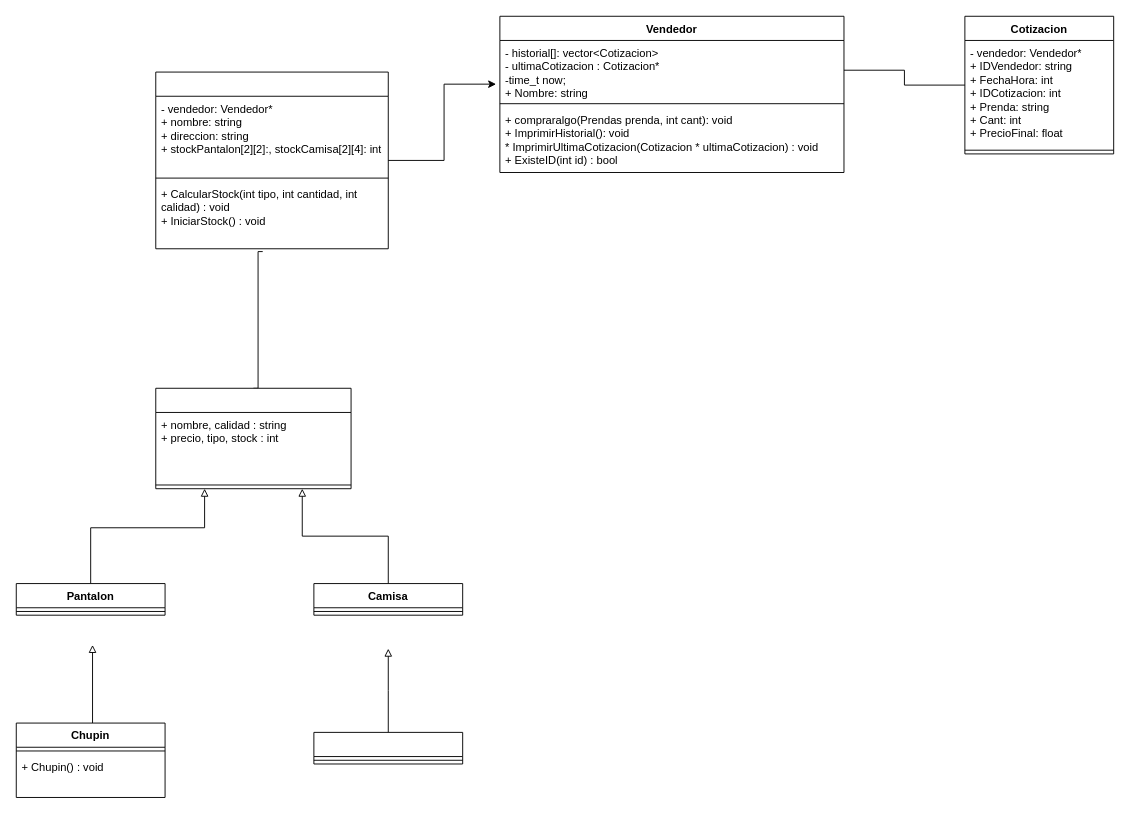
The diagram is 1130 pixels wide and 817 high, and some of its shapes have lost their labels. Here are the shapes that lost their labels. From the top down, the box of each, then its label:
(155, 71, 388, 249): Tienda
(155, 387, 351, 489): Prendas
(313, 731, 463, 764): Corta
